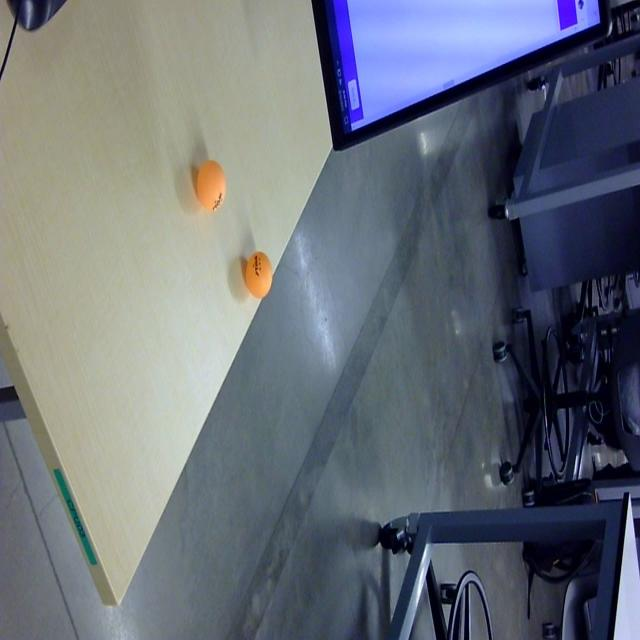ball: (193, 157, 226, 212), (243, 247, 274, 303)
